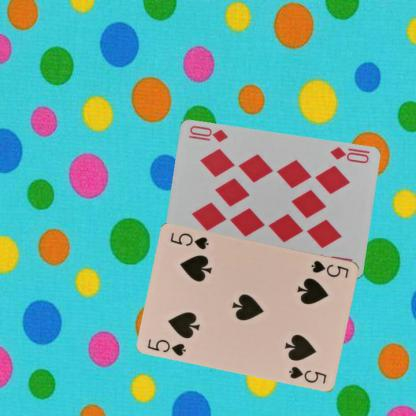10d: (327, 144, 370, 165)
5s: (145, 336, 188, 357), (309, 257, 350, 279)
